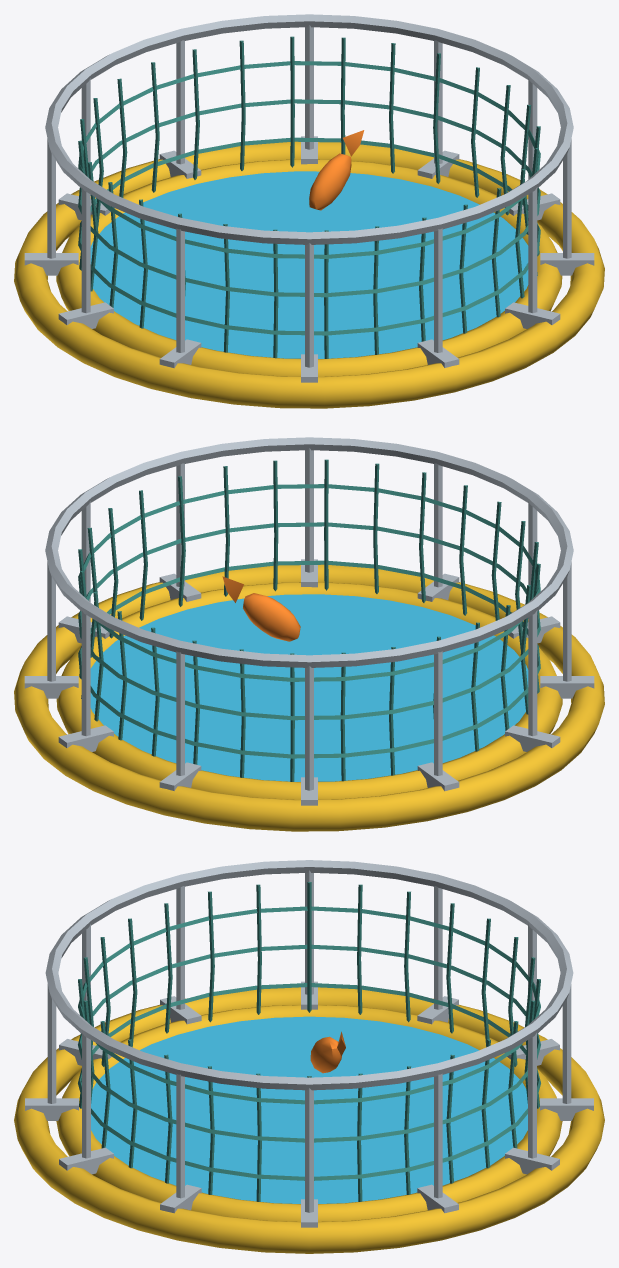
Rendered from fish_cage_ring.glb.
3 views of the same model, one above another, from view 1: azimuth 30°, elevation 25°; view 2: azimuth 150°, elevation 25°; view 3: azimuth 270°, elevation 25° (orthographic).
Visible parts, largest first — view 1: fish_cage_ring; view 2: fish_cage_ring; view 3: fish_cage_ring.
Part boxes in pixels (box(x1,y1,x2,y2)): fish_cage_ring: box(14, 14, 604, 408); fish_cage_ring: box(14, 437, 604, 831); fish_cage_ring: box(14, 860, 604, 1253).
Bounding box in the file's own units: 3.5 × 1.09 × 3.5.
